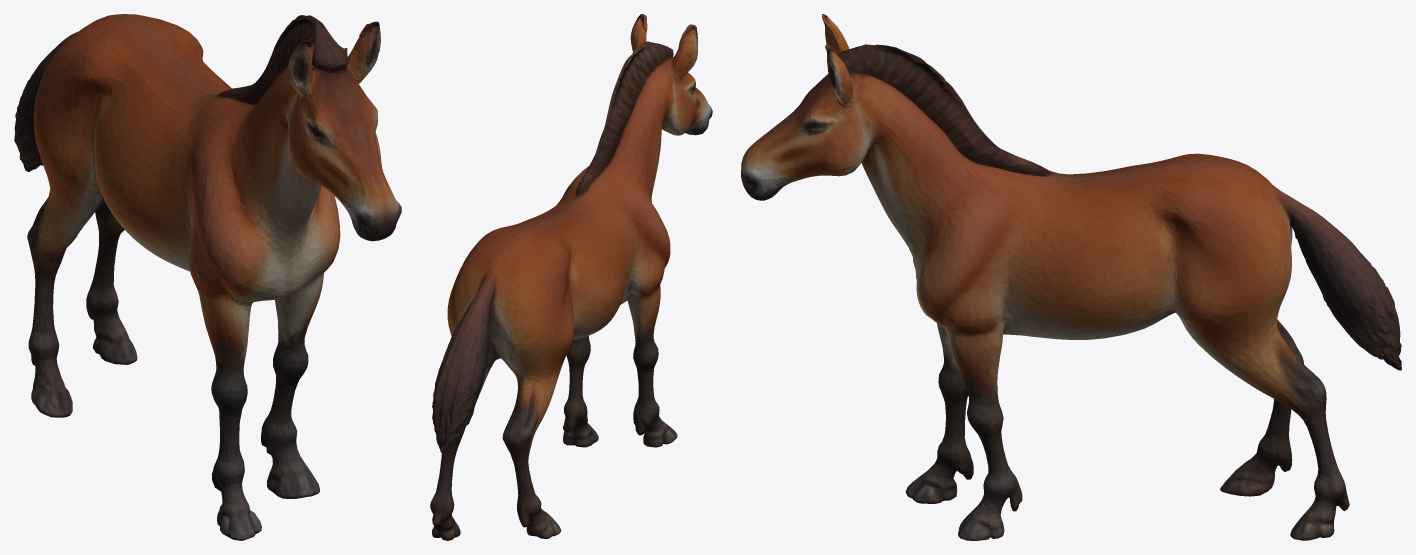
3 renders of one model, left to right at view 1: azimuth 30°, elevation 25°; view 2: azimuth 150°, elevation 25°; view 3: azimuth 270°, elevation 25°, orthographic. The views are drawn at different scales.
Parts seen in each view (by area): view 1: world; view 2: world; view 3: world.
Boxes of the visible parts, x1=… form: world: x1=14, y1=14, x2=401, y2=540; world: x1=430, y1=14, x2=712, y2=540; world: x1=741, y1=14, x2=1401, y2=540.
Size of the model in its own units: 0.2896 by 0.9745 by 1.2.
Materials: 1 (1 with a texture image).
